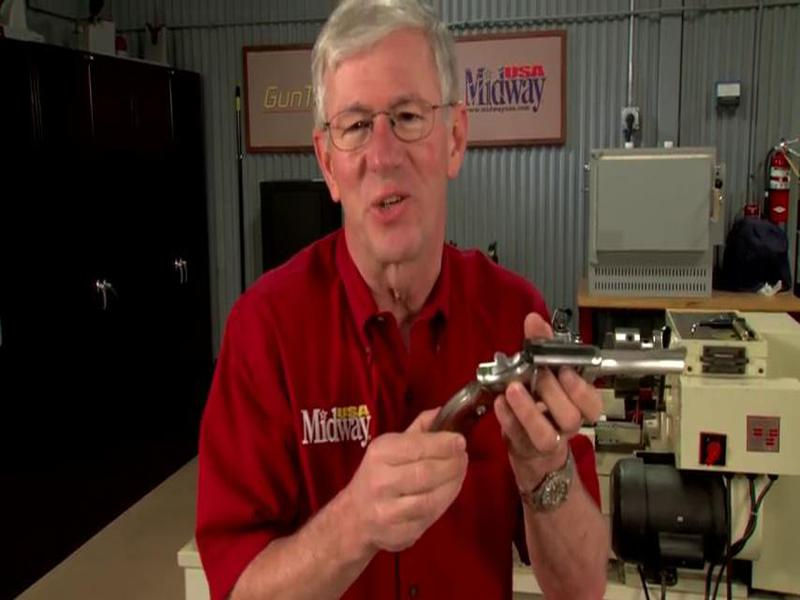Revolver: (434, 318, 694, 489)
